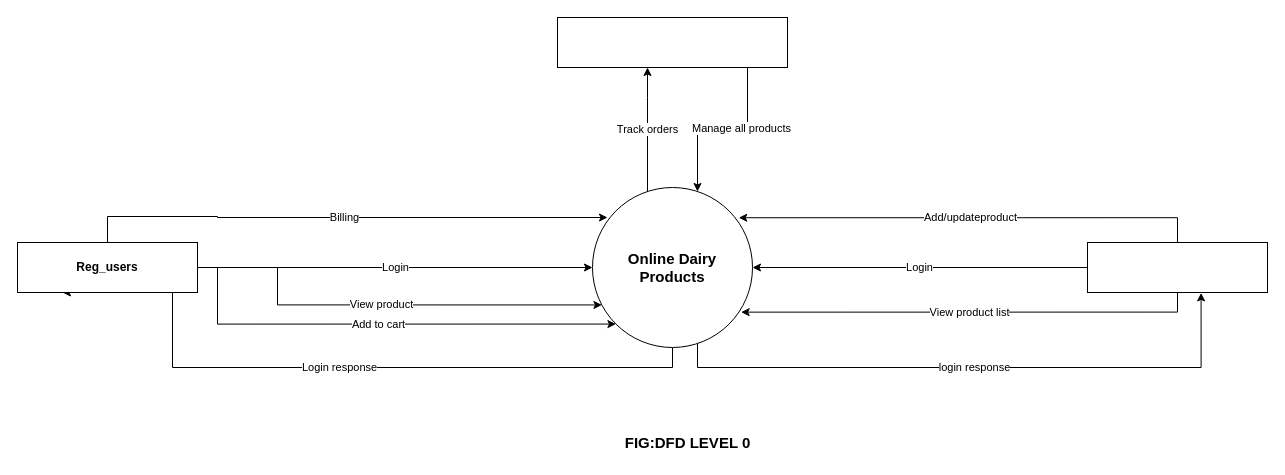
The diagram is 1285 pixels wide and 475 high, and some of its shapes have lost their labels. Each missing label, with the box of its shape:
Admin: (556, 16, 788, 68)
Reg_vendor: (1086, 242, 1268, 292)
